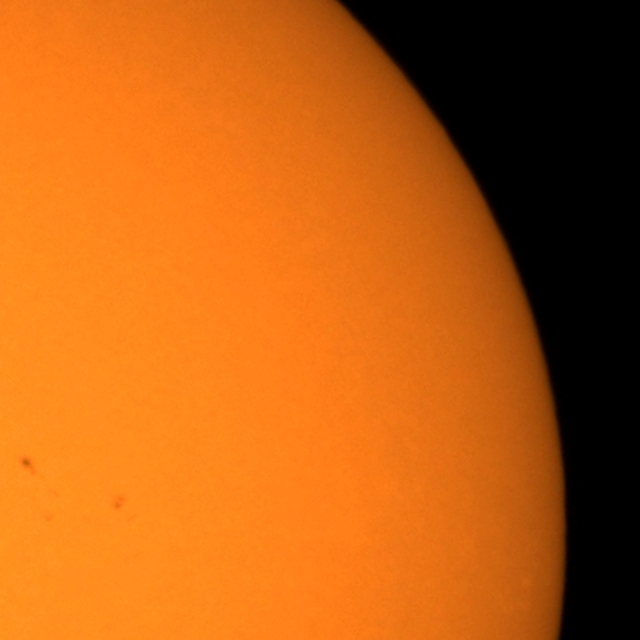sunspot: (19, 455, 36, 477), (111, 493, 127, 512)
